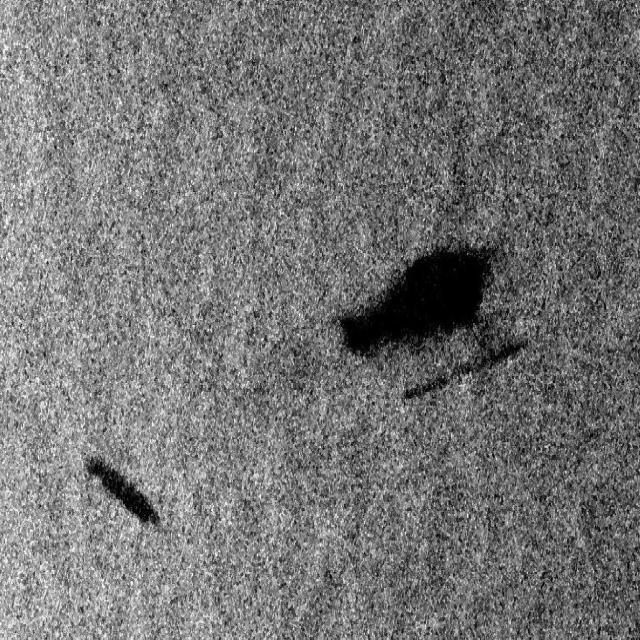oil-spill: (336, 237, 528, 416), (82, 444, 164, 537)
